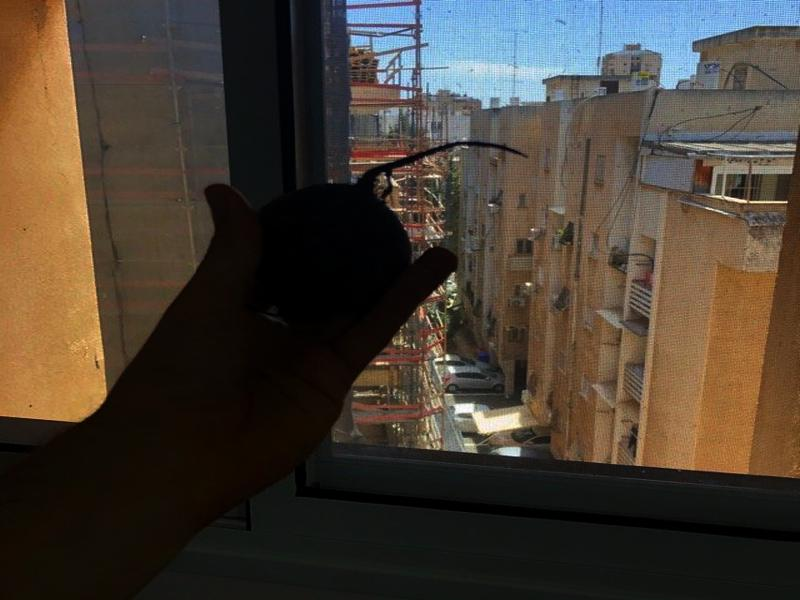Beet: (259, 139, 529, 322)
